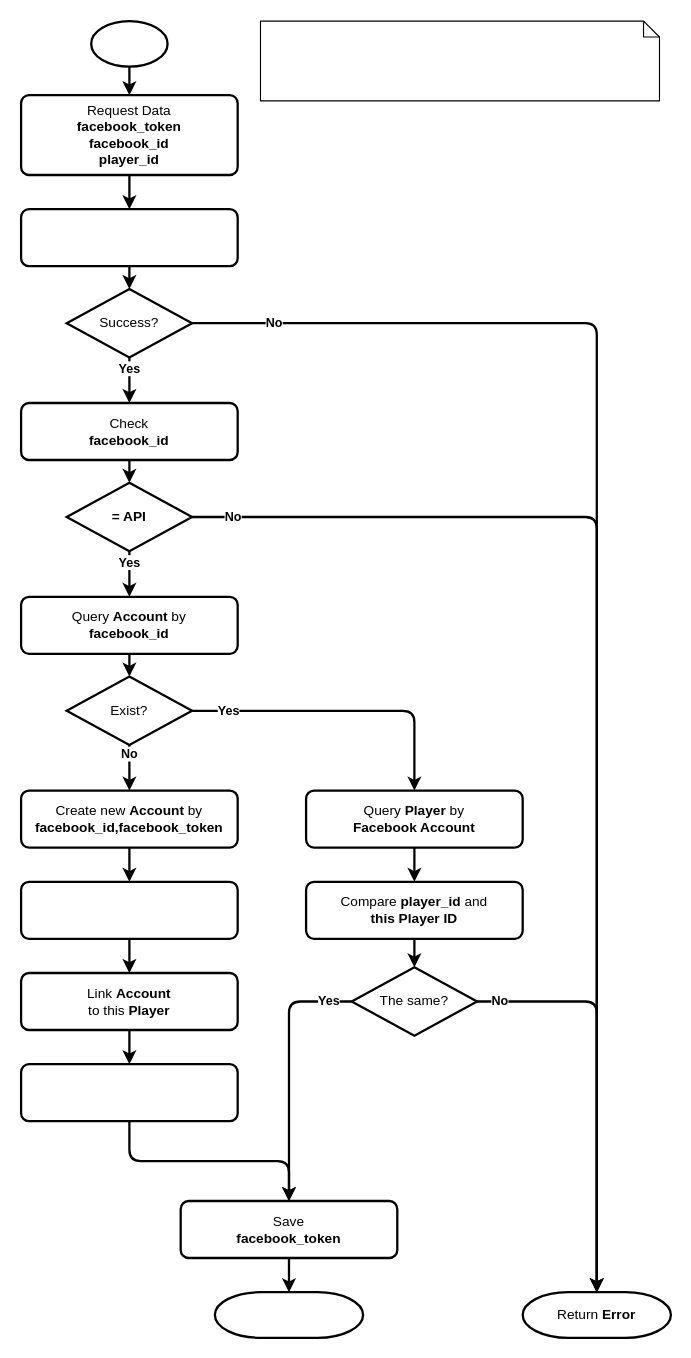
Image size: 691x1358. Some labels were removed from this diagram. The box of each missing label's shape, as (x1, y1, x2, y2) in pixels:
Facebook API Check facebook_token: (19, 207, 238, 267)
Notes: + Main-flow always follows top-down direction from Start node.: (259, 20, 659, 101)
Query Player by player_id: (19, 880, 238, 939)
Return Player: (213, 1290, 364, 1338)
Set Player Property facebook_linked=True: (19, 1062, 238, 1122)
Start: (89, 19, 168, 67)
